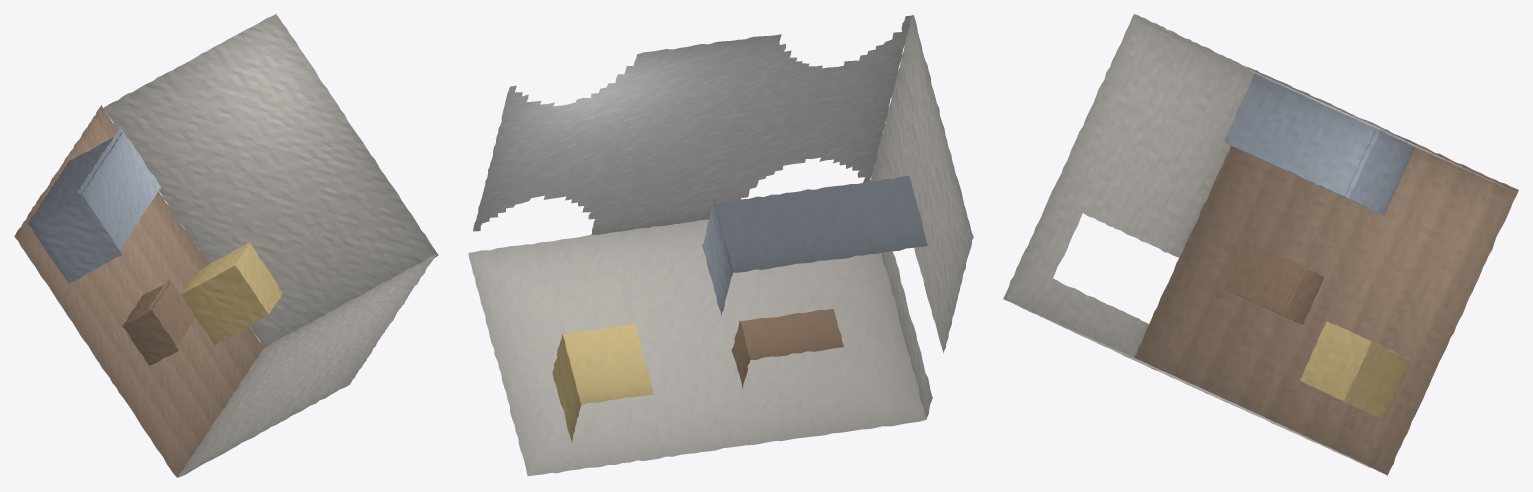
File: sample-scan.glb
3 renders of one model, left to right at view 1: azimuth 30°, elevation 25°; view 2: azimuth 150°, elevation 25°; view 3: azimuth 270°, elevation 25°, orthographic. The views are drawn at different scales.
Bounding box in the file's own units: 2.32 × 1.81 × 2.34.
